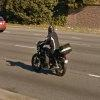Motorcycle: (24, 26, 76, 79)
